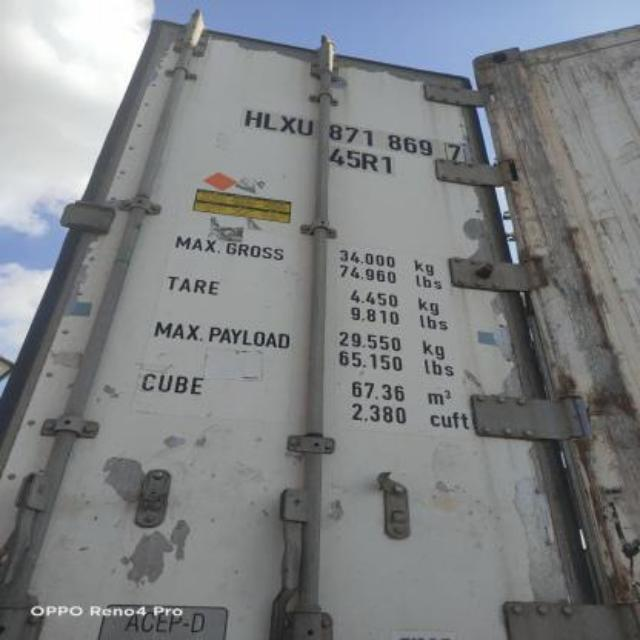1: (362, 120, 376, 150)
6: (404, 132, 416, 158)
7: (442, 135, 464, 161), (343, 122, 361, 144)
8: (386, 126, 400, 152), (330, 118, 342, 144)
9: (418, 129, 434, 161)
H: (245, 106, 261, 130)
L: (262, 108, 278, 134)
U: (298, 115, 314, 138)
X: (278, 106, 296, 138)
